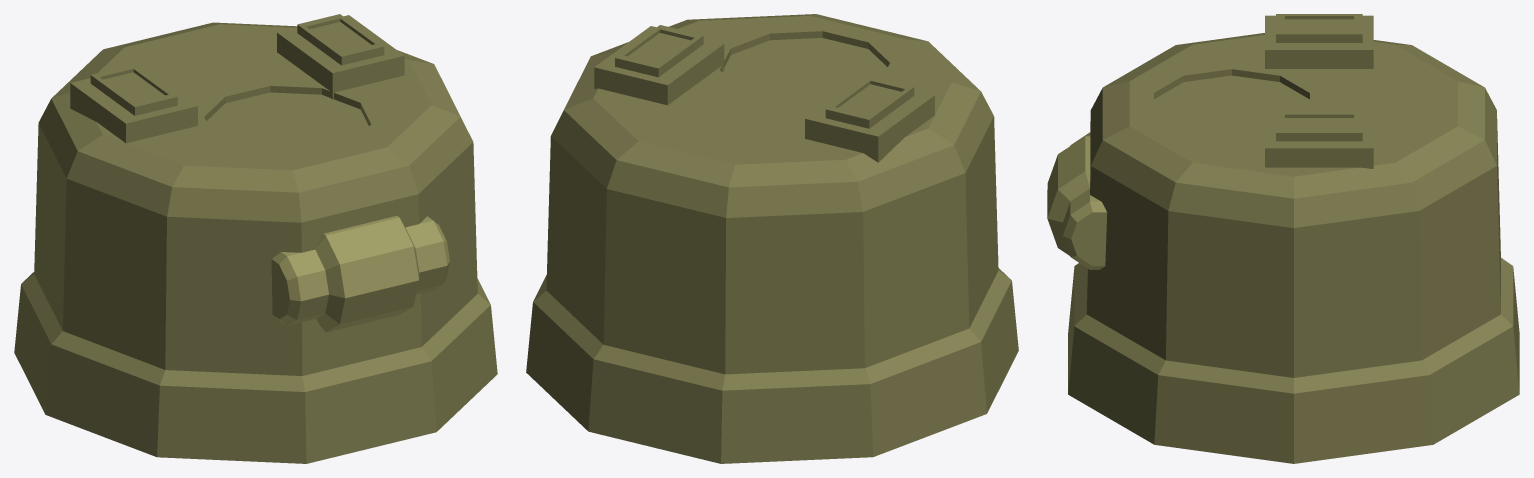
Rendered from SM_Tank_03_Turret.fbx.
3 renders of one model, left to right at view 1: azimuth 30°, elevation 25°; view 2: azimuth 150°, elevation 25°; view 3: azimuth 270°, elevation 25°, orthographic. The views are drawn at different scales.
Parts seen in each view (by area): view 1: SM_Tank_03_Turret; view 2: SM_Tank_03_Turret; view 3: SM_Tank_03_Turret.
Boxes of the visible parts, x1=… form: SM_Tank_03_Turret: x1=14, y1=14, x2=497, y2=463; SM_Tank_03_Turret: x1=526, y1=14, x2=1018, y2=463; SM_Tank_03_Turret: x1=1047, y1=14, x2=1519, y2=463.
Size of the model in its own units: 5.25 by 3.51 by 5.22.
